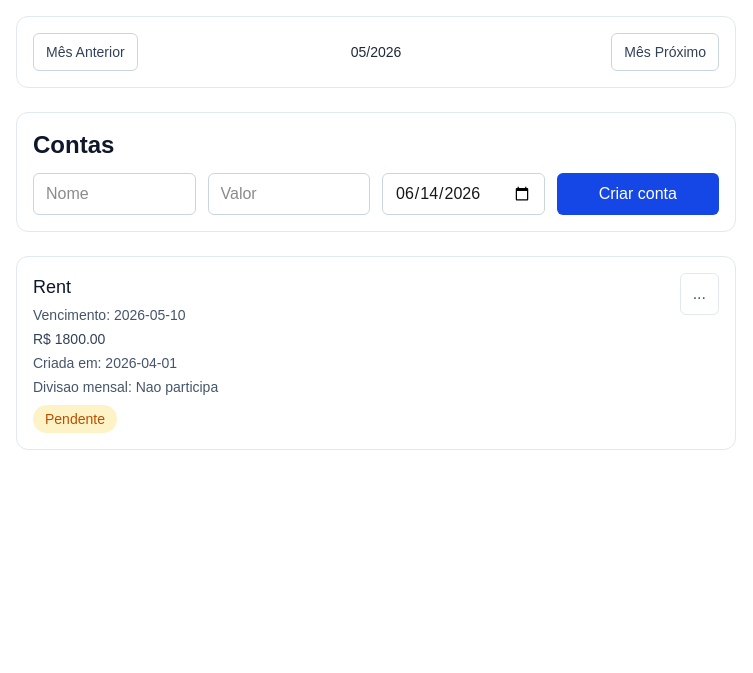
AccountsList › creates a new account
In the field named "Nome da conta": (114, 194) [33,173,196,215], type "Water"
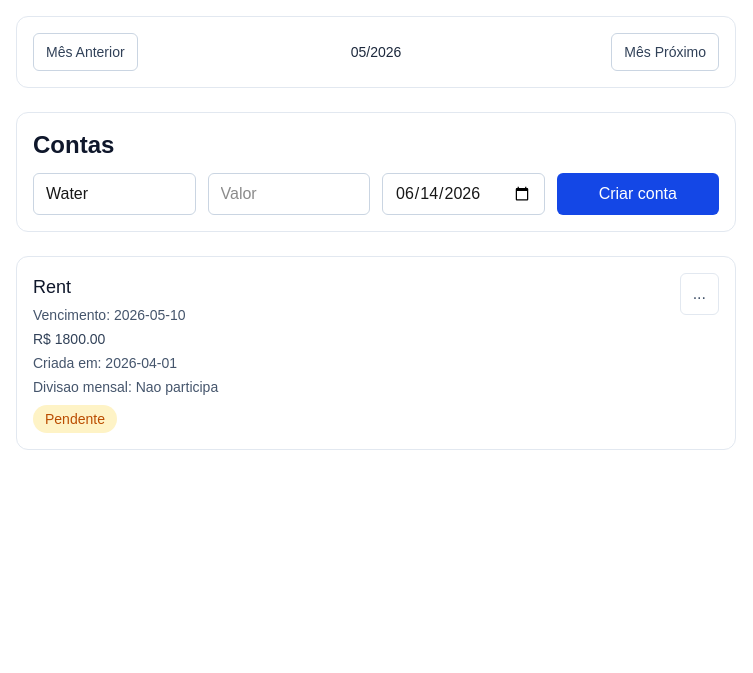
In the number field named "Valor da conta": (289, 194) [208,173,370,215], type "90"
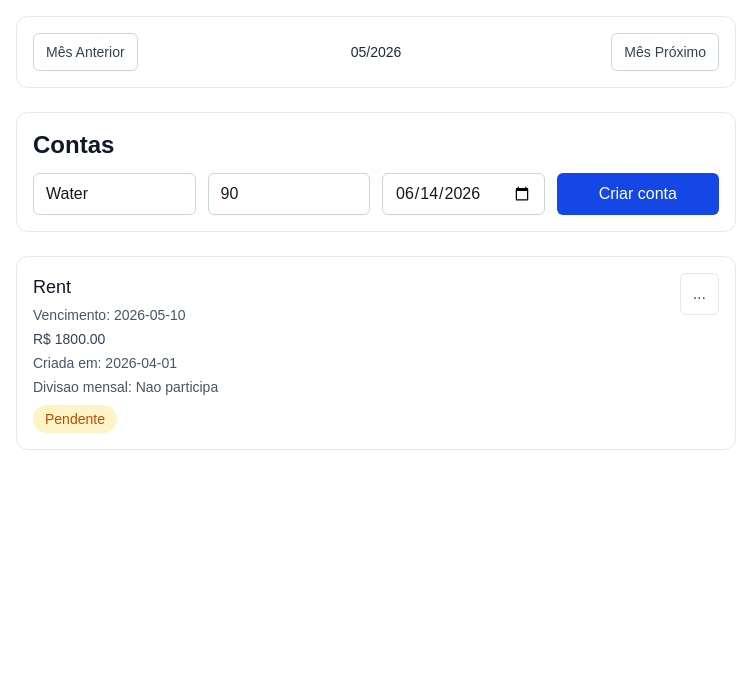
In the date field named "Data de vencimento": (463, 194) [382,173,544,215], type "2026-05-22"
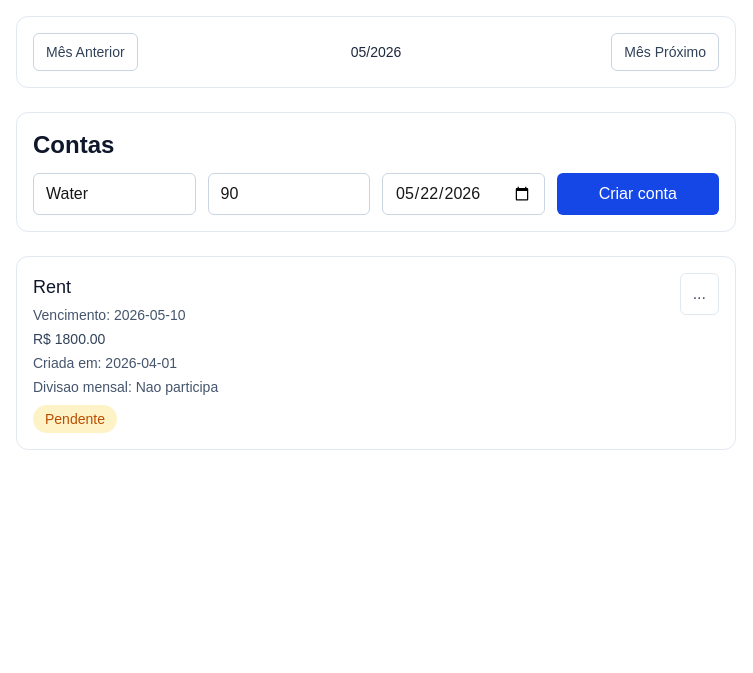
Click the button "Criar conta": (638, 194) [556,173,719,215]
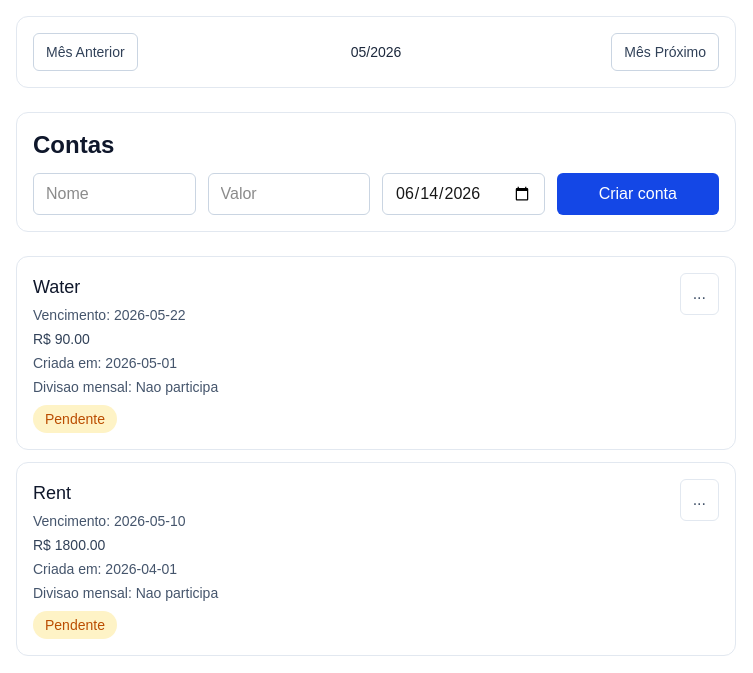
Now the text "Water" is shown, box [33,277,80,297]
